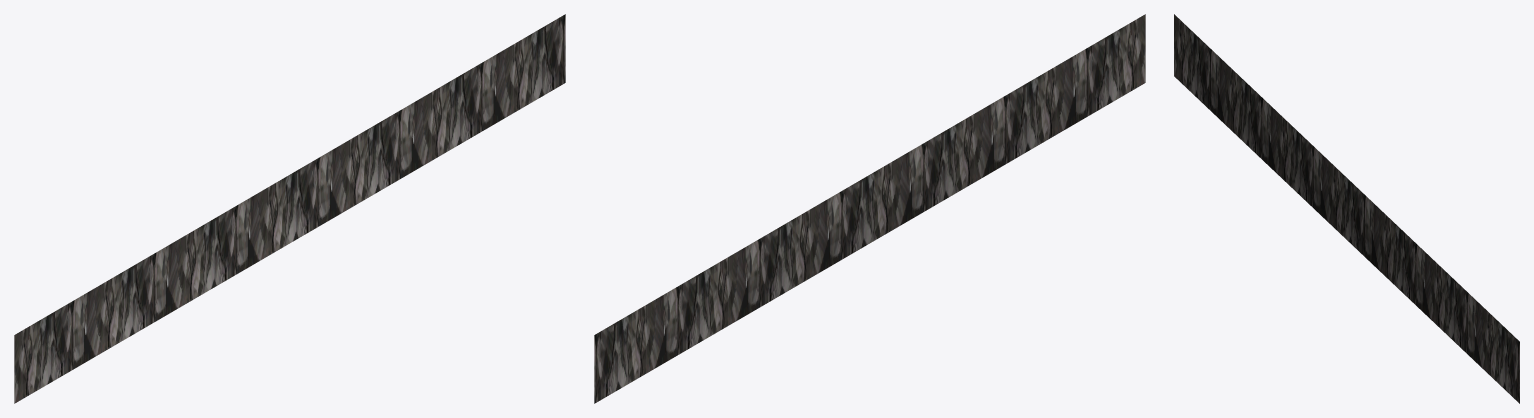
Rendered from CH09_SMAUG_PLAYSURFACE_LAIR58.fbx.
The picture shows the model from 3 angles, left to right: view 1: azimuth 30°, elevation 25°; view 2: azimuth 210°, elevation 25°; view 3: azimuth 270°, elevation 25°; orthographic projection. The views are drawn at different scales.
Visible parts, largest first — view 1: CH09_SMAUG_PLAYSURFACE_LAIR58; view 2: CH09_SMAUG_PLAYSURFACE_LAIR58; view 3: CH09_SMAUG_PLAYSURFACE_LAIR58.
Boxes of the visible parts, left/top/right/bottom form: CH09_SMAUG_PLAYSURFACE_LAIR58: left=14, top=14, right=565, bottom=403; CH09_SMAUG_PLAYSURFACE_LAIR58: left=594, top=14, right=1145, bottom=403; CH09_SMAUG_PLAYSURFACE_LAIR58: left=1174, top=14, right=1519, bottom=403.
Bounding box in the file's own units: 68939 × 6106 × 30742.
1 material, 1 textured.
